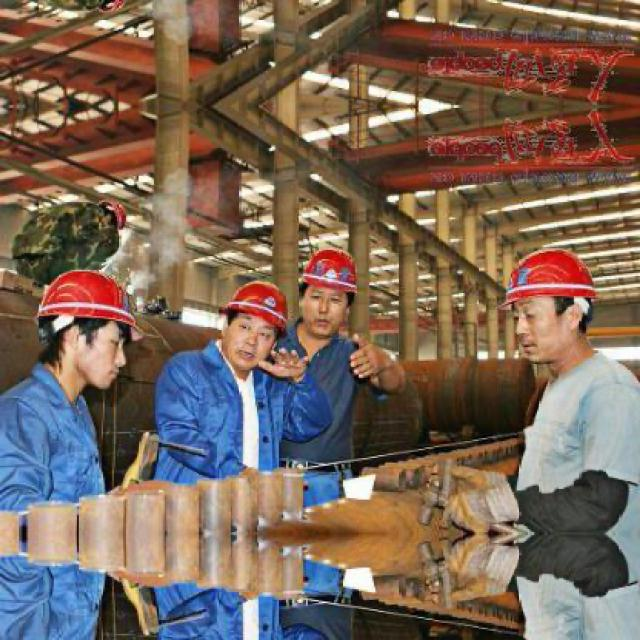con casco: (0, 251, 155, 422), (492, 251, 616, 382), (194, 280, 334, 382), (311, 242, 401, 320)
